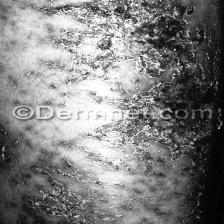Non-Cancerous Skin Condition: (0, 122, 207, 224), (9, 0, 210, 102)
